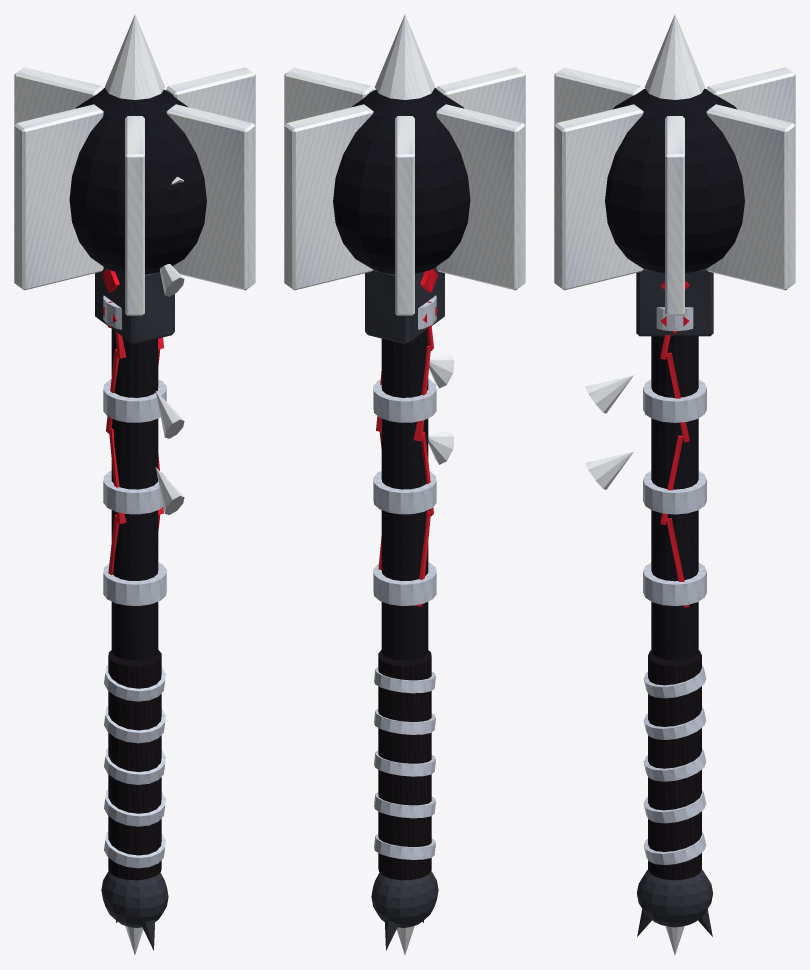
File: CataclysmMaw.fbx
The picture shows the model from 3 angles, left to right: view 1: azimuth 30°, elevation 25°; view 2: azimuth 150°, elevation 25°; view 3: azimuth 270°, elevation 25°; orthographic projection.
Parts seen in each view (by area): view 1: CataclysmMaw; view 2: CataclysmMaw; view 3: CataclysmMaw.
Boxes of the visible parts, box(x1,y1,x2,y2) form: CataclysmMaw: box(14, 14, 255, 954); CataclysmMaw: box(284, 14, 525, 954); CataclysmMaw: box(554, 14, 795, 954).
Size of the model in its own units: 160 by 617 by 143.
1 material, 1 textured.
